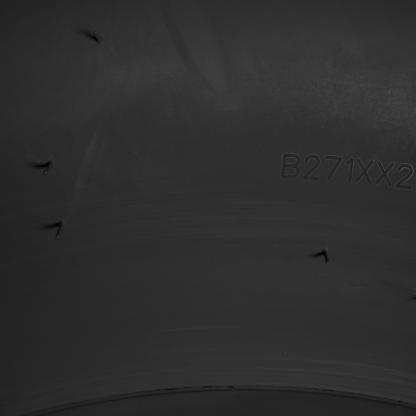ocr: (280, 150, 414, 192)
